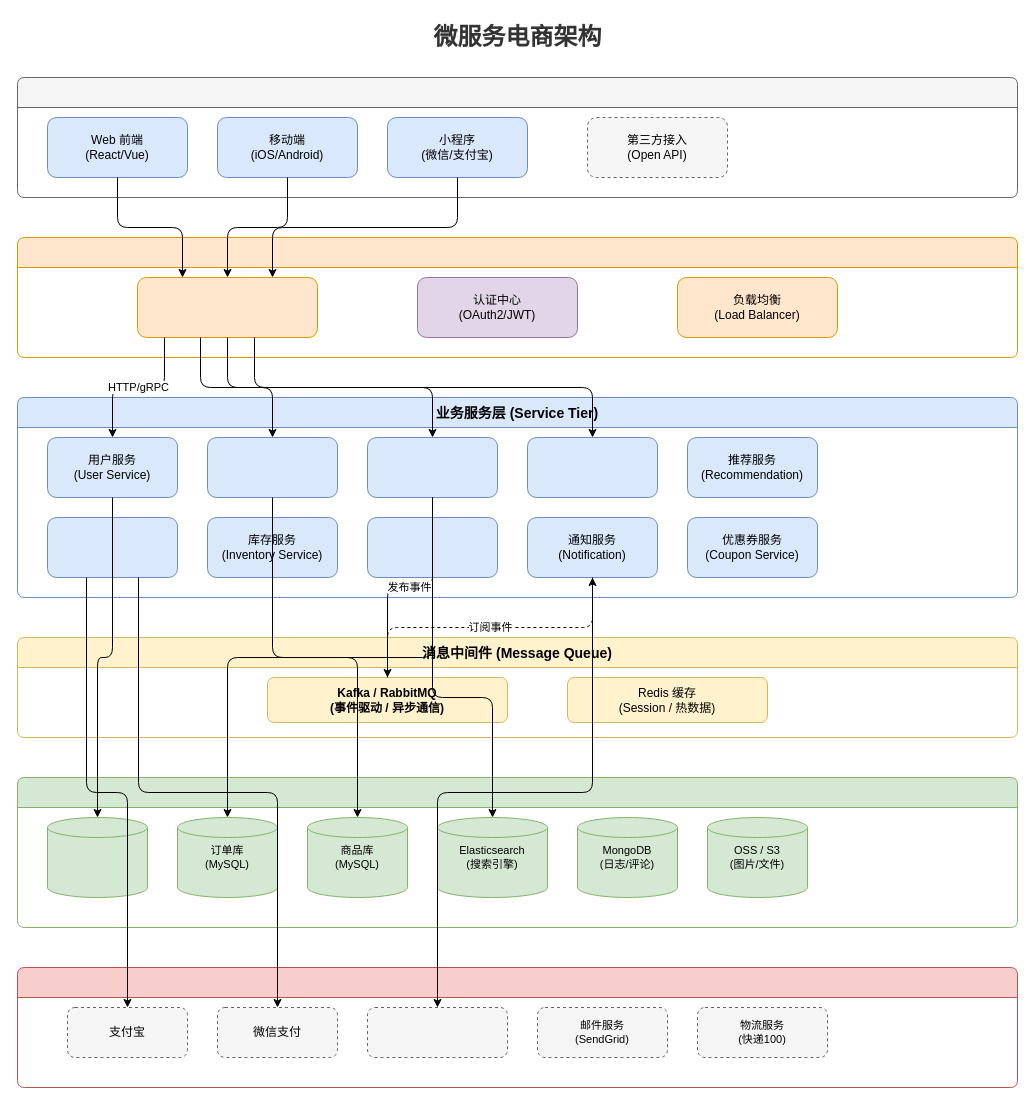
Image size: 1035x1105. Some labels were removed from this diagram. The box of each missing label's shape, as (x1, y1, x2, y2) in pixels:
API Gateway (Kong/Nginx): (136, 276, 318, 338)
商品服务 (Product Service): (206, 436, 338, 498)
外部服务 (External): (16, 966, 1018, 1088)
客户端层 (Client Tier): (16, 76, 1018, 198)
搜索服务 (Search Service): (366, 516, 498, 578)
支付服务 (Payment Service): (46, 516, 178, 578)
数据存储层 (Data Tier): (16, 776, 1018, 928)
用户库 (MySQL): (46, 816, 148, 898)
短信服务 (阿里云/腾讯云): (366, 1006, 508, 1058)
网关层 (Gateway Tier): (16, 236, 1018, 358)
订单服务 (Order Service): (366, 436, 498, 498)
购物车服务 (Cart Service): (526, 436, 658, 498)
